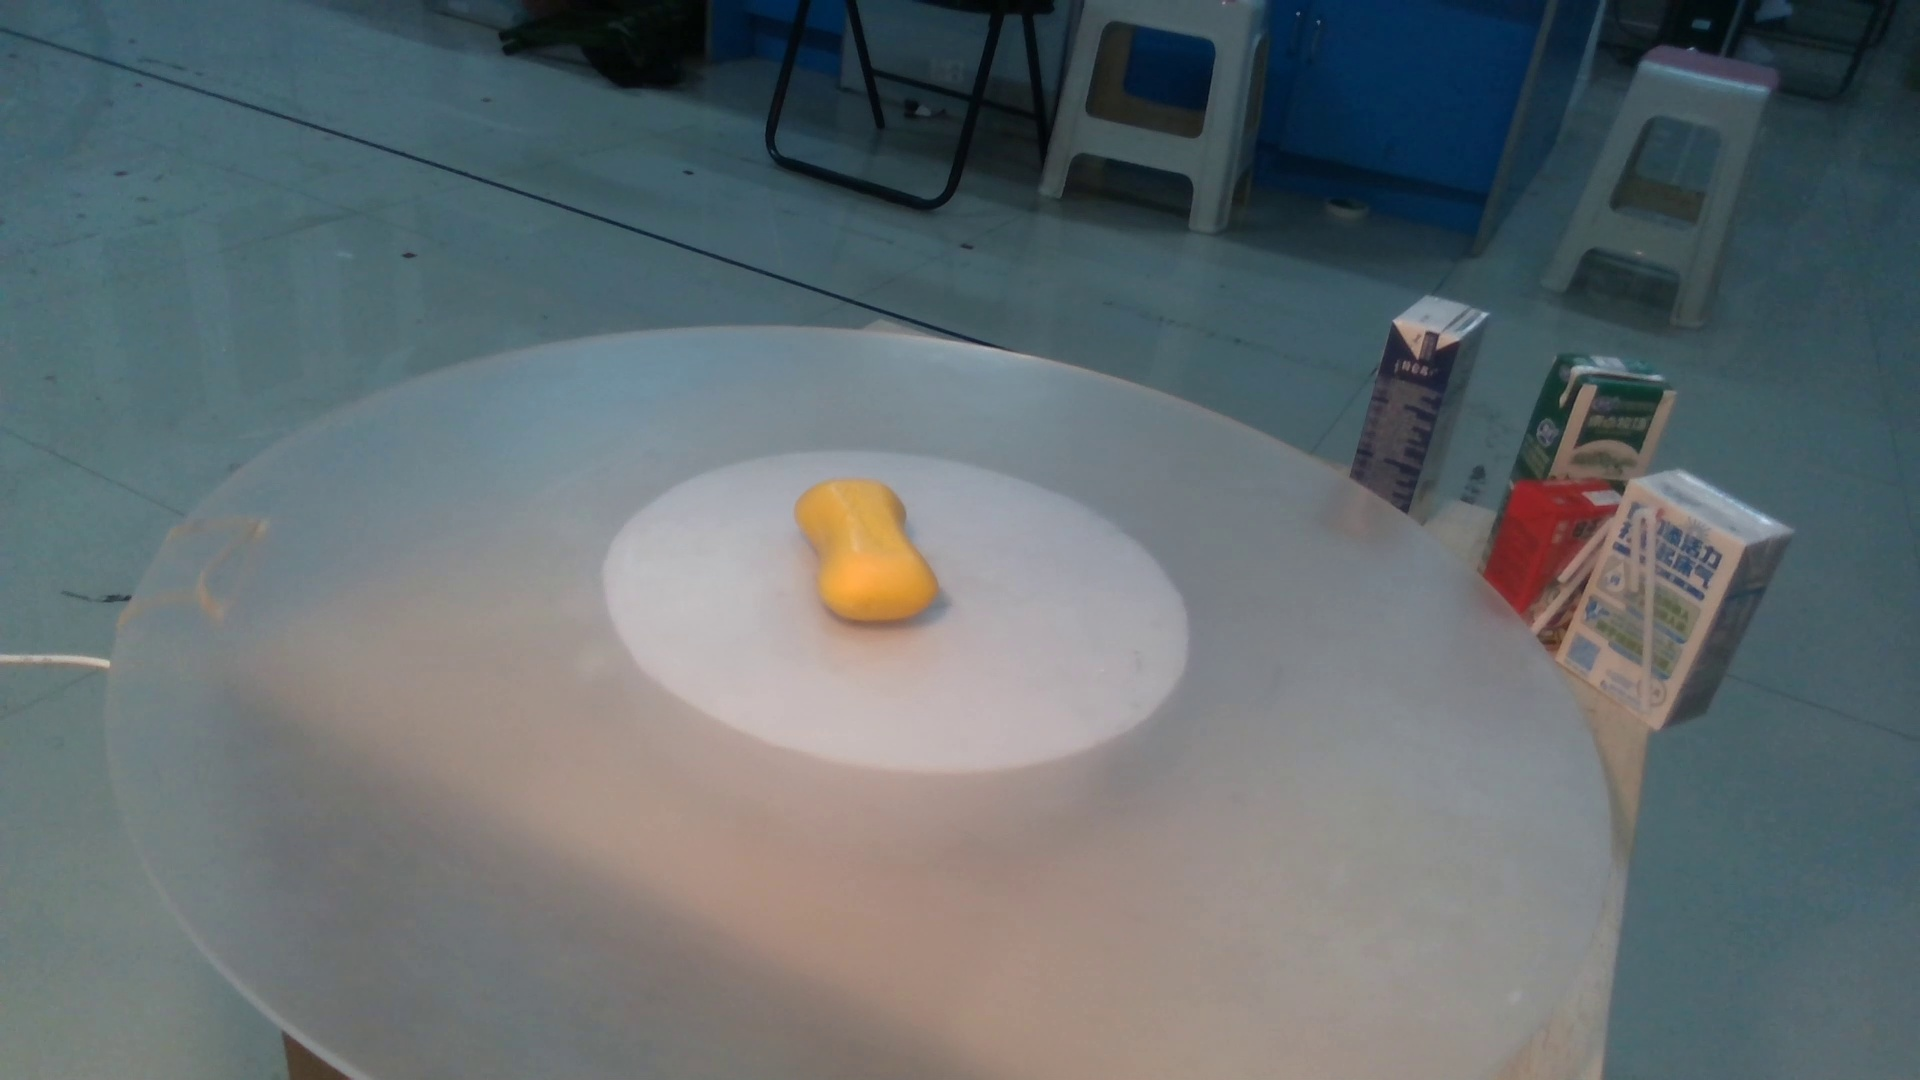CA003_1: (750, 464, 960, 663)
